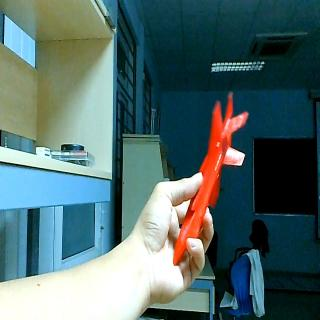Jet: (172, 91, 249, 262)
